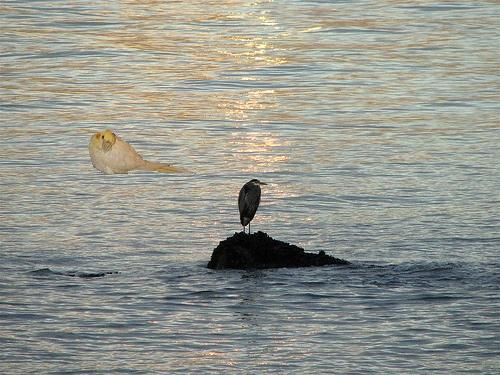tampered: (89, 130, 196, 174)
